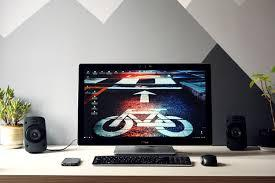monitor: (77, 63, 212, 146)
